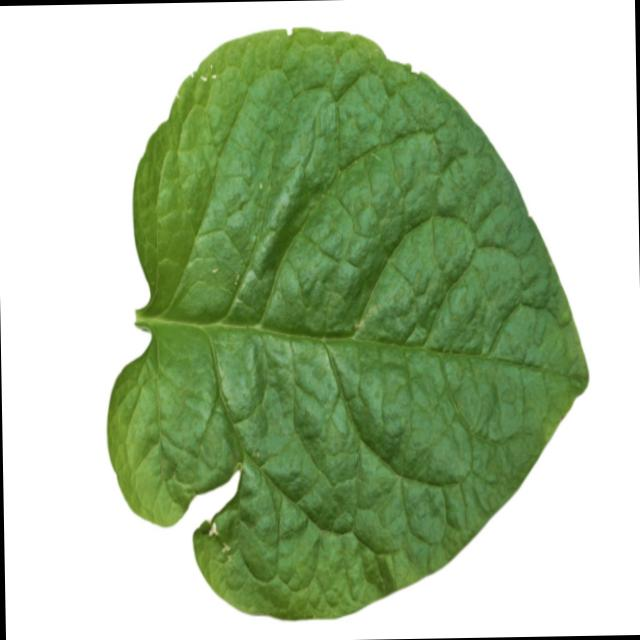Medicinal-Basale: (99, 23, 594, 622)
